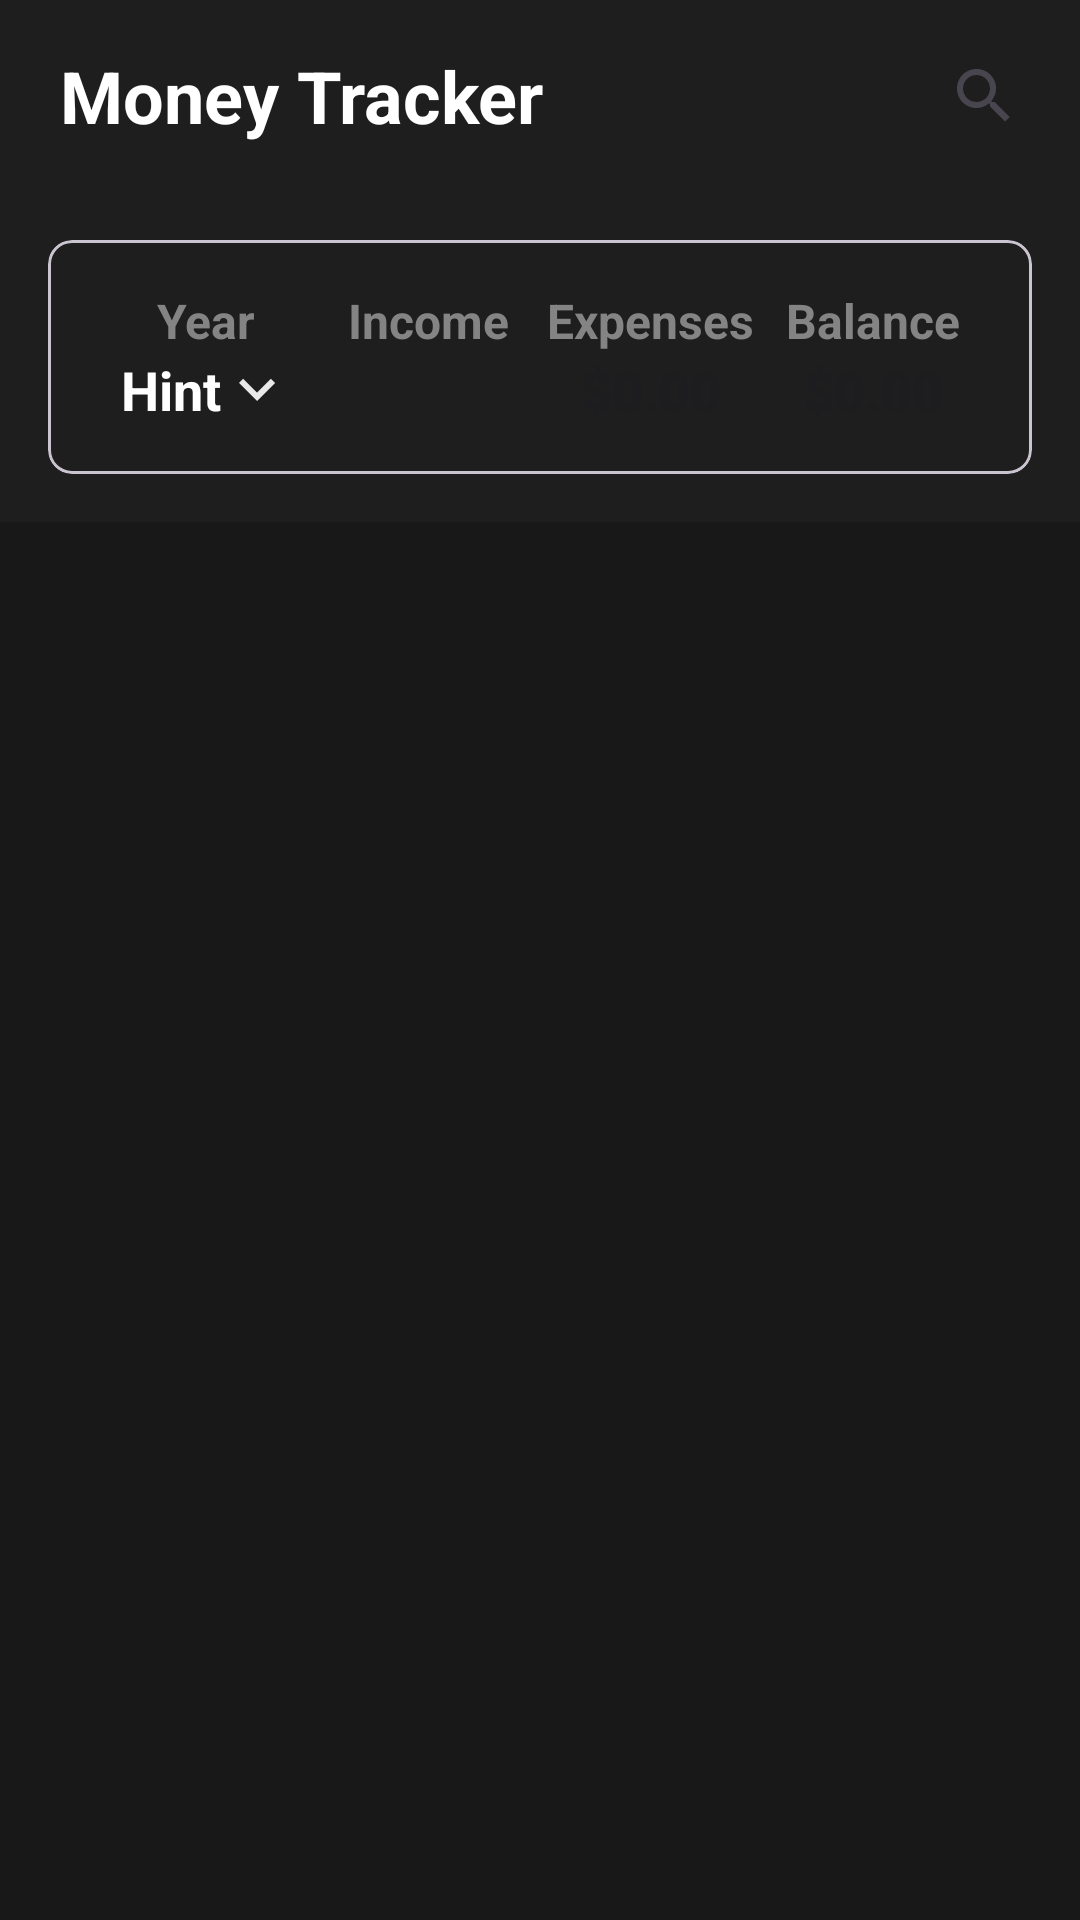

Where to tap for icons on this 1080 × 1920 app screen, as [x,y]:
arrow down: [257,390]
